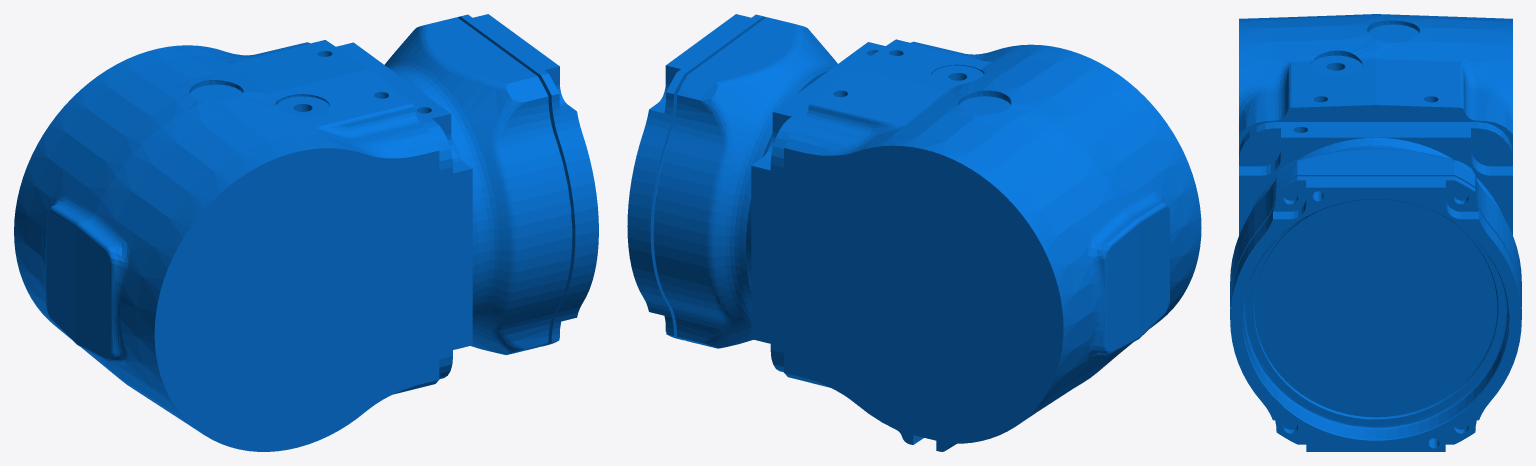
The model's file is MotomanGP7Link5.dae.
The picture shows the model from 3 angles, left to right: view 1: azimuth 30°, elevation 25°; view 2: azimuth 150°, elevation 25°; view 3: azimuth 270°, elevation 25°; orthographic projection. The views are drawn at different scales.
Parts seen in each view (by area): view 1: node_37c07ab1_5d75_452f_b639_0e71dae5504f_mesh0; view 2: node_37c07ab1_5d75_452f_b639_0e71dae5504f_mesh0; view 3: node_37c07ab1_5d75_452f_b639_0e71dae5504f_mesh0.
Part boxes in pixels (left/top/right/bottom): node_37c07ab1_5d75_452f_b639_0e71dae5504f_mesh0: left=14, top=14, right=598, bottom=451; node_37c07ab1_5d75_452f_b639_0e71dae5504f_mesh0: left=627, top=14, right=1201, bottom=451; node_37c07ab1_5d75_452f_b639_0e71dae5504f_mesh0: left=1230, top=14, right=1521, bottom=451.
Bounding box in the file's own units: 0.114 × 0.066 × 0.0761.
